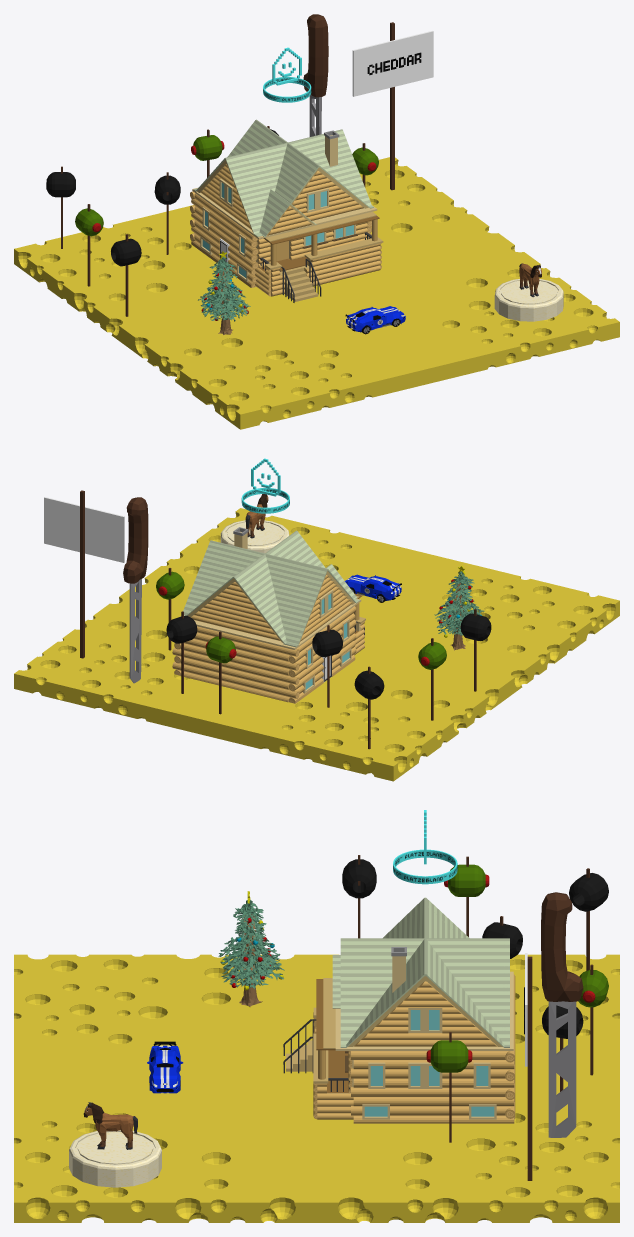
3 renders of one model, top to bottom at view 1: azimuth 30°, elevation 25°; view 2: azimuth 150°, elevation 25°; view 3: azimuth 270°, elevation 25°, orthographic. The views are drawn at different scales.
Parts seen in each view (by area): view 1: Cube.022, Cube.1516, Cube.023, Cylinder.016, Cube.024, OBJRANDOM_CHRISTMAS_TREE, VEHICLES_RACING_CAR, TYPE_PREMIUM, Sphere.017, Sphere.018, Sphere.016, Sphere.020 (+2 smaller); view 2: Cube.022, Cube.1516, Cube.023, Cube.024, OBJRANDOM_CHRISTMAS_TREE, Cylinder.016, VEHICLES_RACING_CAR, TYPE_PREMIUM, Sphere.021, Sphere.017, Sphere.020, Sphere.022 (+4 smaller); view 3: Cube.022, Cube.1516, Cube.024, Cylinder.016, OBJRANDOM_CHRISTMAS_TREE, Cube.023, VEHICLES_RACING_CAR, Sphere.019, Sphere.016, TYPE_PREMIUM, Sphere.017, Sphere.018 (+4 smaller).
Part boxes in pixels (bbox=[...]): Cube.022: bbox=[14, 157, 619, 429]; Cube.1516: bbox=[190, 119, 383, 302]; Cube.023: bbox=[352, 22, 433, 190]; Cylinder.016: bbox=[494, 278, 563, 321]; Cube.024: bbox=[303, 14, 328, 136]; OBJRANDOM_CHRISTMAS_TREE: bbox=[198, 251, 250, 334]; VEHICLES_RACING_CAR: bbox=[345, 306, 405, 334]; TYPE_PREMIUM: bbox=[263, 47, 311, 102]; Sphere.017: bbox=[111, 234, 141, 316]; Sphere.018: bbox=[75, 204, 103, 286]; Sphere.016: bbox=[46, 166, 75, 248]; Sphere.020: bbox=[154, 172, 180, 254]; Cube.022: bbox=[14, 508, 619, 781]; Cube.1516: bbox=[172, 527, 365, 703]; Cube.023: bbox=[44, 490, 124, 658]; Cube.024: bbox=[123, 497, 148, 683]; OBJRANDOM_CHRISTMAS_TREE: bbox=[434, 565, 484, 650]; Cylinder.016: bbox=[220, 519, 289, 553]; VEHICLES_RACING_CAR: bbox=[345, 574, 401, 602]; TYPE_PREMIUM: bbox=[241, 458, 289, 513]; Sphere.021: bbox=[166, 611, 197, 693]; Sphere.017: bbox=[460, 609, 491, 691]; Sphere.020: bbox=[312, 625, 342, 707]; Sphere.022: bbox=[205, 631, 236, 714]; Cube.022: bbox=[14, 954, 619, 1222]; Cube.1516: bbox=[283, 897, 515, 1123]; Cube.024: bbox=[541, 892, 583, 1137]; Cylinder.016: bbox=[69, 1130, 161, 1187]; OBJRANDOM_CHRISTMAS_TREE: bbox=[218, 891, 284, 1007]; Cube.023: bbox=[524, 953, 532, 1180]; VEHICLES_RACING_CAR: bbox=[147, 1041, 183, 1093]; Sphere.019: bbox=[426, 1032, 472, 1142]; Sphere.016: bbox=[569, 868, 608, 970]; TYPE_PREMIUM: bbox=[393, 810, 457, 884]; Sphere.017: bbox=[342, 855, 376, 938]; Sphere.018: bbox=[444, 856, 489, 936].
Bounding box in the file's own units: 3917 × 2325 × 4000.
Materials: 44 (5 with a texture image).
